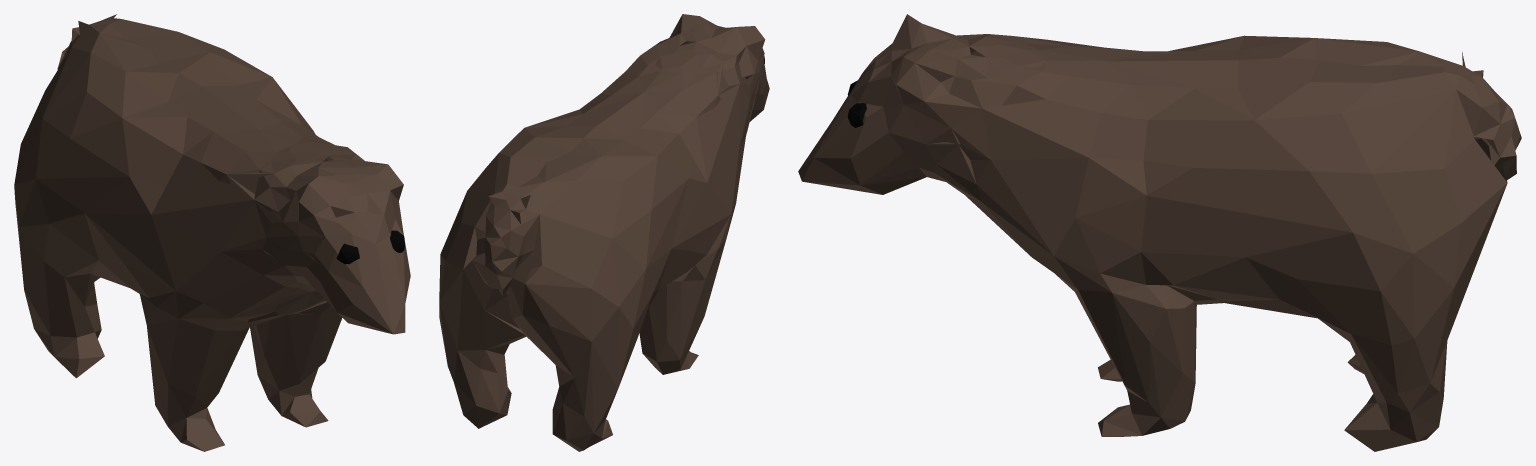
The model's file is Bear.fbx.
3 renders of one model, left to right at view 1: azimuth 30°, elevation 25°; view 2: azimuth 150°, elevation 25°; view 3: azimuth 270°, elevation 25°, orthographic. The views are drawn at different scales.
Visible parts, largest first — view 1: body, Eyes; view 2: body; view 3: body.
Boxes of the visible parts, x1=… form: body: x1=14, y1=14, x2=410, y2=451; Eyes: x1=336, y1=230, x2=404, y2=264; body: x1=439, y1=14, x2=769, y2=451; body: x1=798, y1=14, x2=1521, y2=451.
Size of the model in its own units: 355 by 500 by 871.
